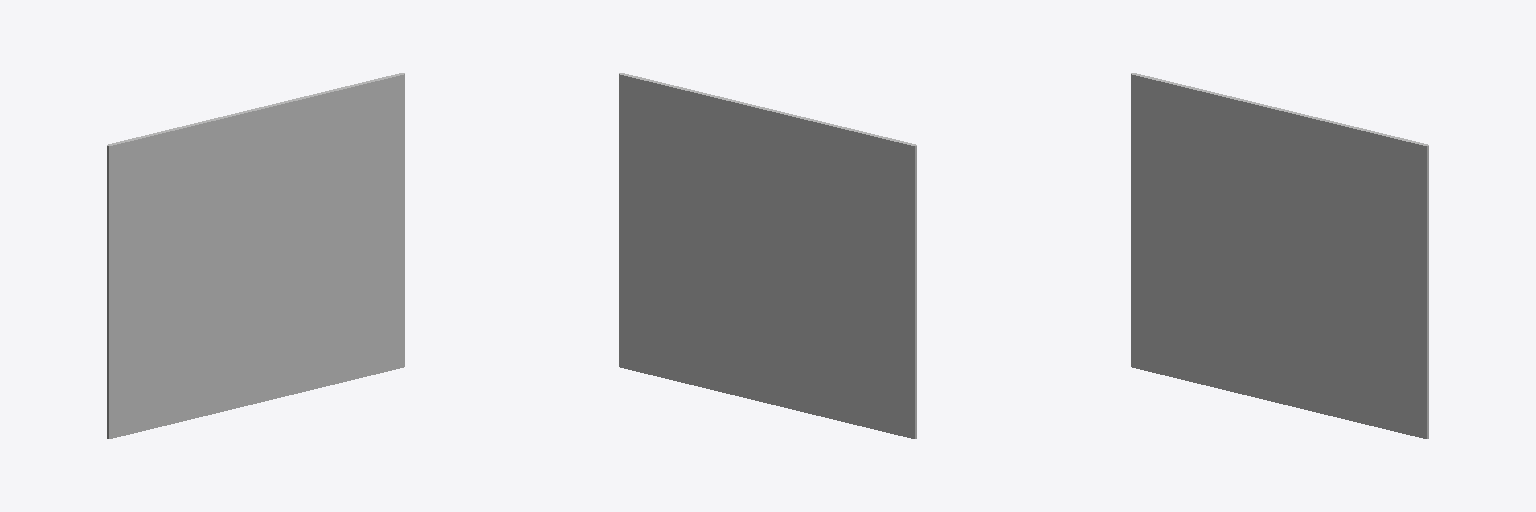
Rendered from theatrecontainingwall.obj.
The picture shows the model from 3 angles: view 1: azimuth 30°, elevation 25°; view 2: azimuth 150°, elevation 25°; view 3: azimuth 330°, elevation 25°; orthographic projection.
Visible parts, largest first — view 1: theatrecontainingwall; view 2: theatrecontainingwall; view 3: theatrecontainingwall.
Boxes of the visible parts, <box> form: theatrecontainingwall: <box>107,73,404,438</box>; theatrecontainingwall: <box>619,73,916,438</box>; theatrecontainingwall: <box>1131,73,1428,438</box>.
Size of the model in its own units: 72.45 by 68.39 by 1.